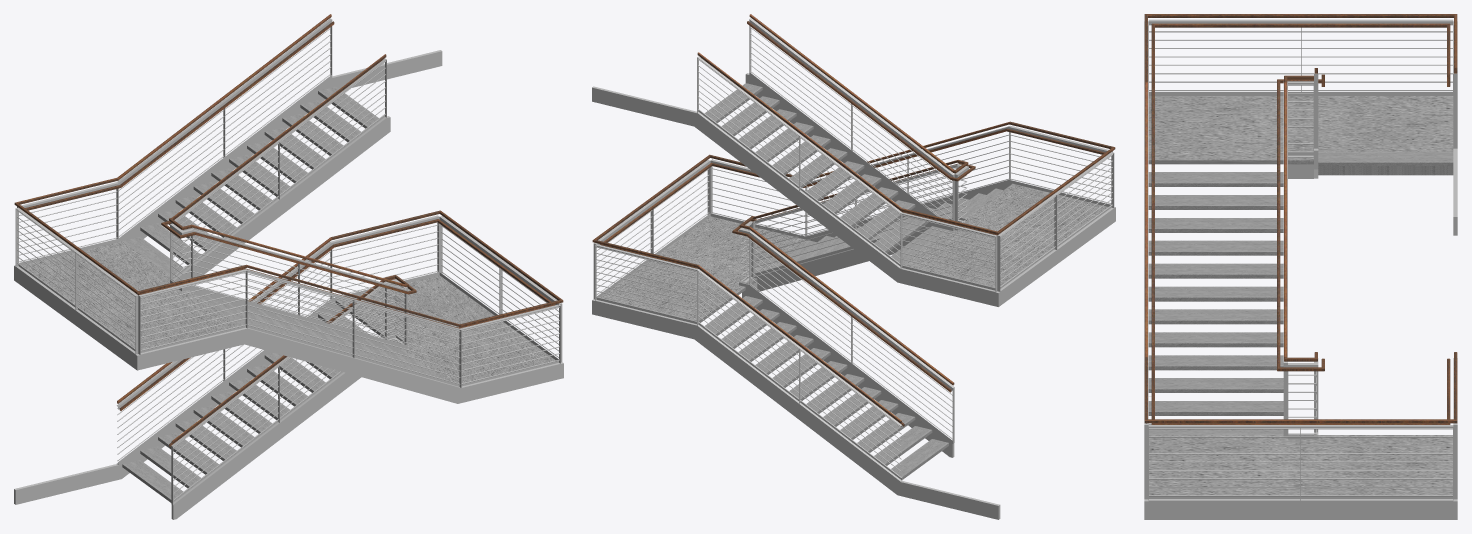
Rendered from staircase_module.fbx.
3 renders of one model, left to right at view 1: azimuth 30°, elevation 25°; view 2: azimuth 150°, elevation 25°; view 3: azimuth 270°, elevation 25°, orthographic. The views are drawn at different scales.
Visible parts, largest first — view 1: material-ddbbec32-88d6-48ae-af4b-91e2f6e011b5 (×22), material-eabfcb1c-ff0a-431e-b6bd-2a9872e92f69 (×7), material-a097436a-9622-482f-9fdd-0fd1fca7169b (×12), material-a8c096f6-0782-4414-ad2f-88acd9d14531 (×5), material-a3bd4d65-c284-4d39-8ff4-76955b73932c (×2); view 2: material-ddbbec32-88d6-48ae-af4b-91e2f6e011b5 (×26), material-eabfcb1c-ff0a-431e-b6bd-2a9872e92f69 (×6), material-a097436a-9622-482f-9fdd-0fd1fca7169b (×10), material-a8c096f6-0782-4414-ad2f-88acd9d14531 (×4), material-a3bd4d65-c284-4d39-8ff4-76955b73932c (×2); view 3: material-ddbbec32-88d6-48ae-af4b-91e2f6e011b5 (×15), material-a097436a-9622-482f-9fdd-0fd1fca7169b (×21), material-eabfcb1c-ff0a-431e-b6bd-2a9872e92f69 (×3), material-a8c096f6-0782-4414-ad2f-88acd9d14531 (×4), material-a3bd4d65-c284-4d39-8ff4-76955b73932c (×4).
Part boxes in pixels (<box>): material-ddbbec32-88d6-48ae-af4b-91e2f6e011b5 (×22): <box>22,86,555,502</box>; material-eabfcb1c-ff0a-431e-b6bd-2a9872e92f69 (×7): <box>14,50,563,519</box>; material-a097436a-9622-482f-9fdd-0fd1fca7169b (×12): <box>16,18,561,504</box>; material-a8c096f6-0782-4414-ad2f-88acd9d14531 (×5): <box>117,14,460,443</box>; material-a3bd4d65-c284-4d39-8ff4-76955b73932c (×2): <box>120,21,408,294</box>; material-ddbbec32-88d6-48ae-af4b-91e2f6e011b5 (×26): <box>600,83,1107,479</box>; material-eabfcb1c-ff0a-431e-b6bd-2a9872e92f69 (×6): <box>592,73,1114,519</box>; material-a097436a-9622-482f-9fdd-0fd1fca7169b (×10): <box>594,18,1113,481</box>; material-a8c096f6-0782-4414-ad2f-88acd9d14531 (×4): <box>697,14,954,423</box>; material-a3bd4d65-c284-4d39-8ff4-76955b73932c (×2): <box>747,21,951,392</box>; material-ddbbec32-88d6-48ae-af4b-91e2f6e011b5 (×15): <box>1148,96,1453,495</box>; material-a097436a-9622-482f-9fdd-0fd1fca7169b (×21): <box>1144,19,1457,501</box>; material-eabfcb1c-ff0a-431e-b6bd-2a9872e92f69 (×3): <box>1148,148,1457,519</box>; material-a8c096f6-0782-4414-ad2f-88acd9d14531 (×4): <box>1144,14,1457,423</box>; material-a3bd4d65-c284-4d39-8ff4-76955b73932c (×4): <box>1151,23,1449,424</box>.
Size of the model in its own units: 7.94 by 7.34 by 3.97.
5 materials, 3 textured.
